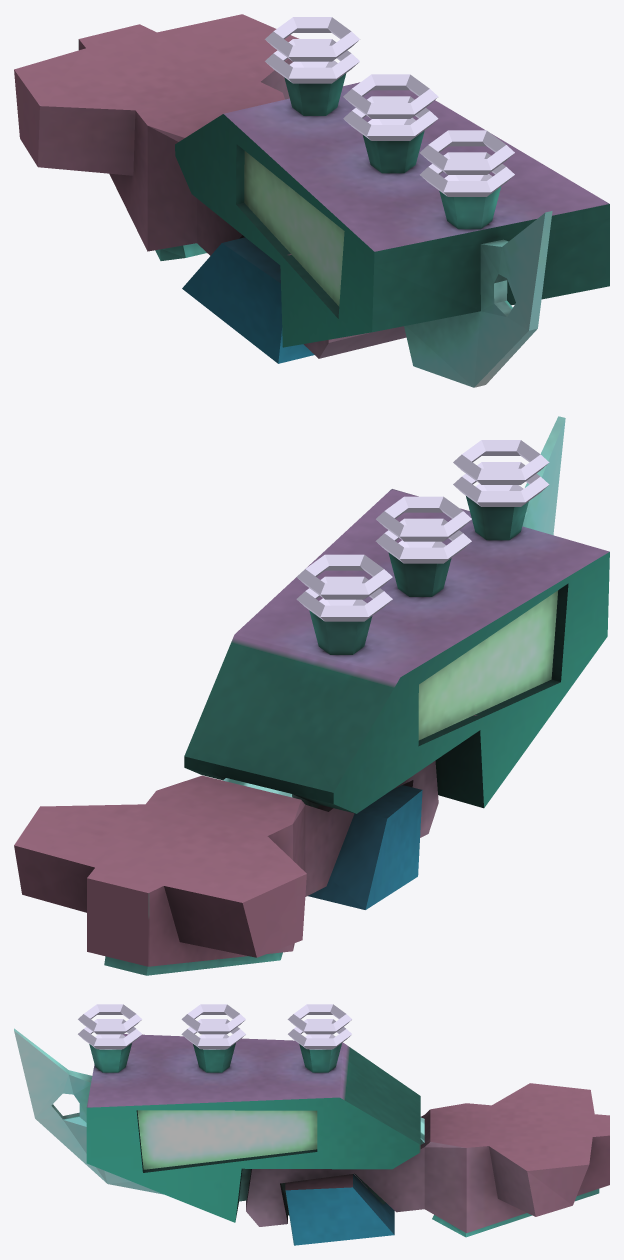
File: Thug_Laserholder_01.fbx
The picture shows the model from 3 angles, top to bottom: view 1: azimuth 30°, elevation 25°; view 2: azimuth 150°, elevation 25°; view 3: azimuth 270°, elevation 25°; orthographic projection. The views are drawn at different scales.
Visible parts, largest first — view 1: Thug_Laserholder_01, Thug_Laserholder_01_Glow; view 2: Thug_Laserholder_01, Thug_Laserholder_01_Glow; view 3: Thug_Laserholder_01, Thug_Laserholder_01_Glow.
Boxes of the visible parts, x1,y1,x2,y2 form: Thug_Laserholder_01: (14,14,609,387); Thug_Laserholder_01_Glow: (265,17,514,196); Thug_Laserholder_01: (14,416,609,975); Thug_Laserholder_01_Glow: (296,440,549,621); Thug_Laserholder_01: (14,1028,609,1245); Thug_Laserholder_01_Glow: (78,1004,352,1049).
Bounding box in the file's own units: 4.24 × 4.65 × 12.13.
Materials: 2 (1 with a texture image).
